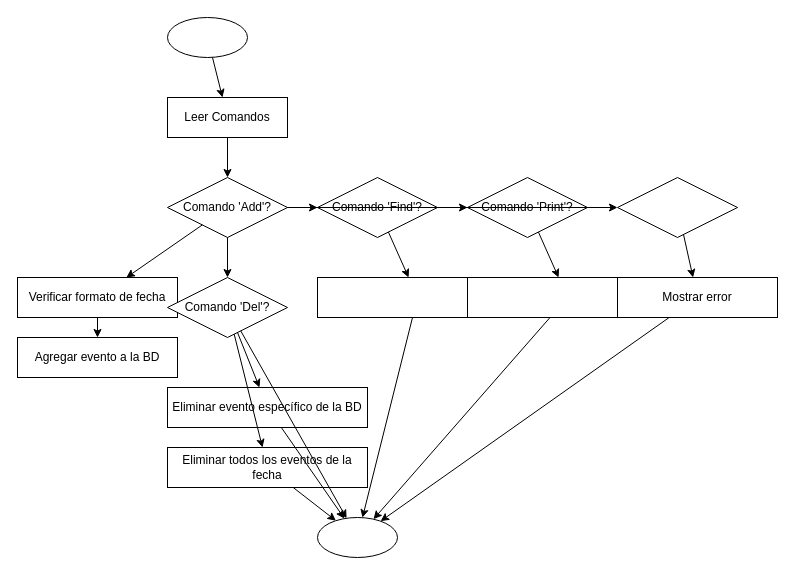
Some shapes in this 795 by 575 pixel diagram are drawn without their labels. Here are the shapes that lost their labels. From the top down, the centre of each, then its label:
the point at 207,37: Inicio
the point at 677,207: Comando desconocido
the point at 417,297: Buscar y mostrar eventos de la fecha
the point at 567,297: Imprimir todos los eventos de la BD
the point at 357,537: Fin
